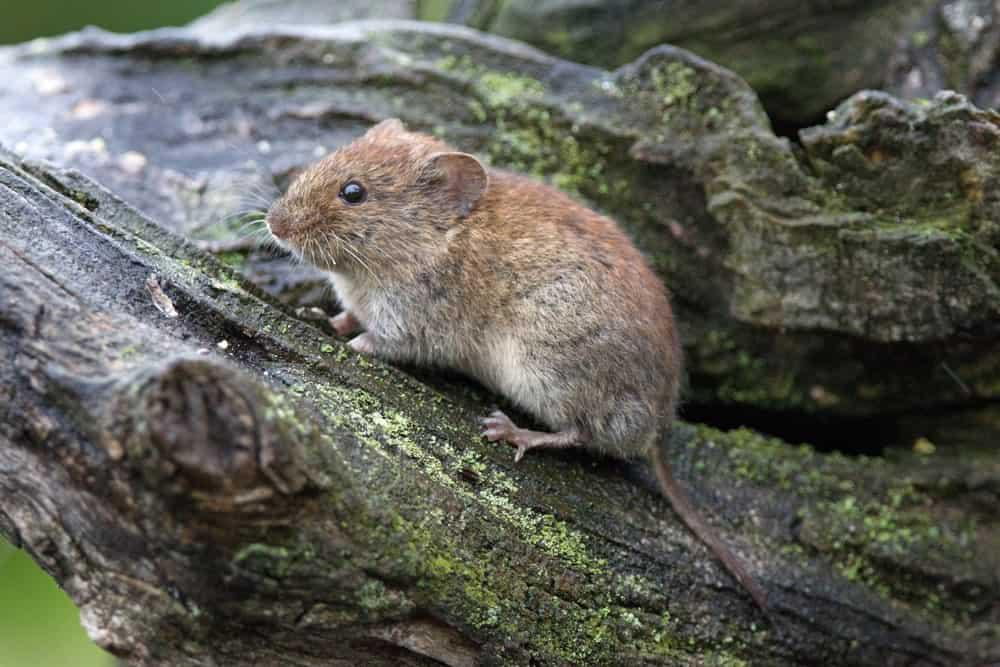rat: (263, 117, 768, 607)
